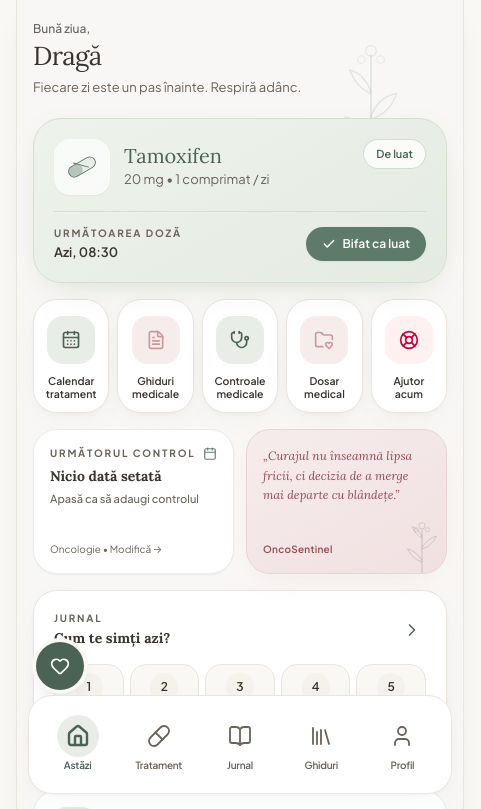
Test: Jurnal: notă și simptome separate › butoanele arată bifa și „Salvat” două secunde
Click the button "Jurnal".
click(240, 744)  # box 199,706 -> 281,783
(page scrolled)
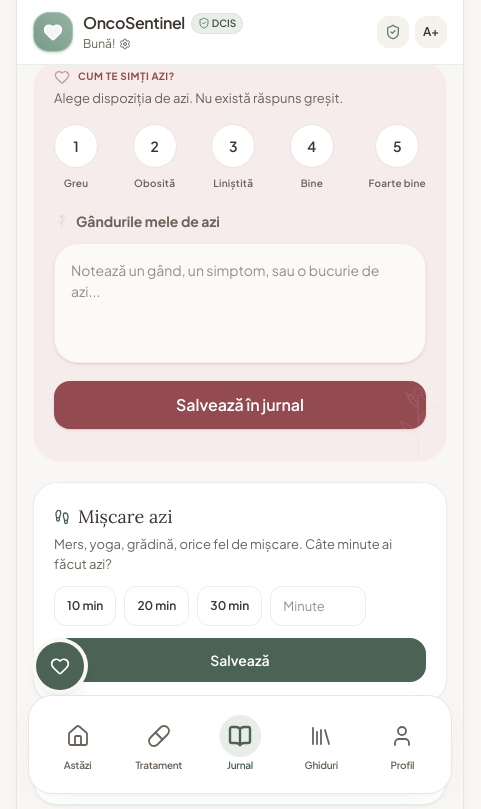
Click the button "Salvează în jurnal".
click(240, 405)  # box 54,381 -> 426,429
Wait 2000 ms
(page scrolled)
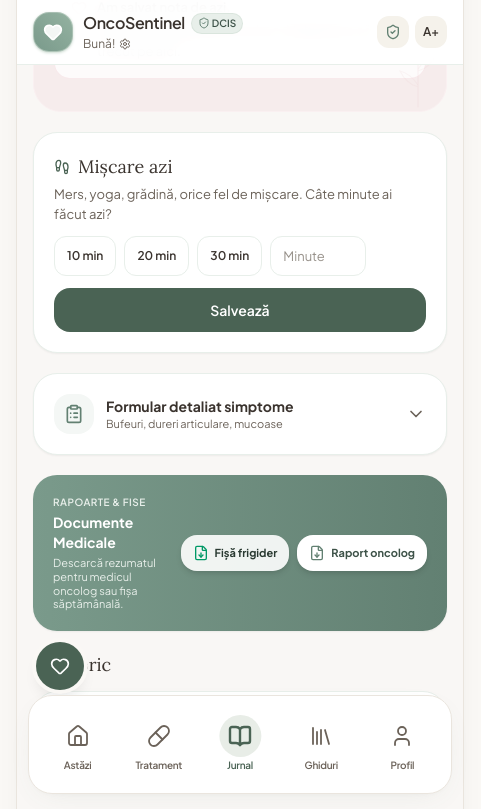
Click the text "Formular detaliat simptome".
click(200, 406)  # box 106,396 -> 294,416
(page scrolled)
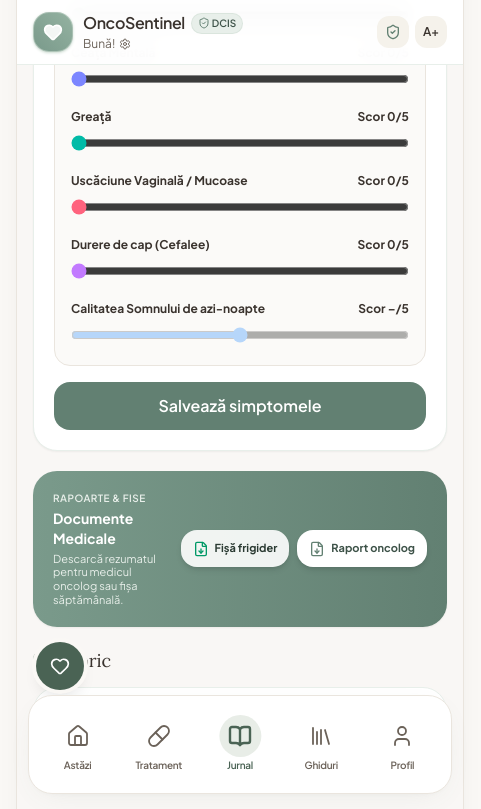
Click the button "Salvează simptomele".
click(240, 406)  # box 54,382 -> 426,430
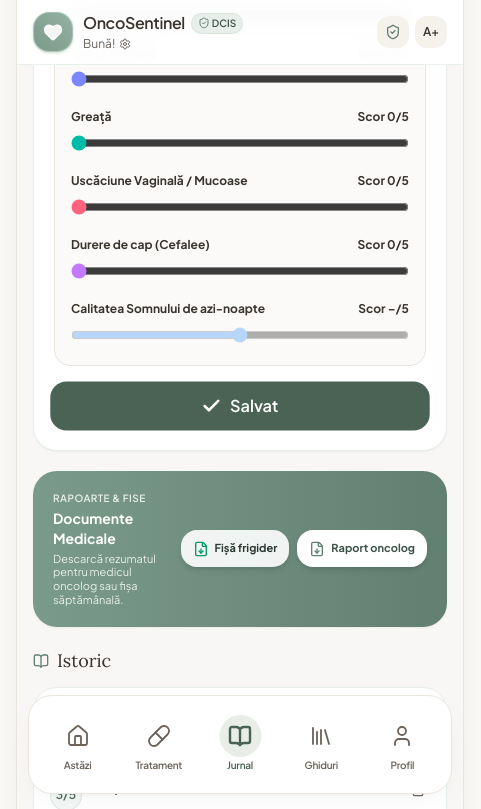
Expected: the button "Salvat" is shown, 50,381 -> 430,430
